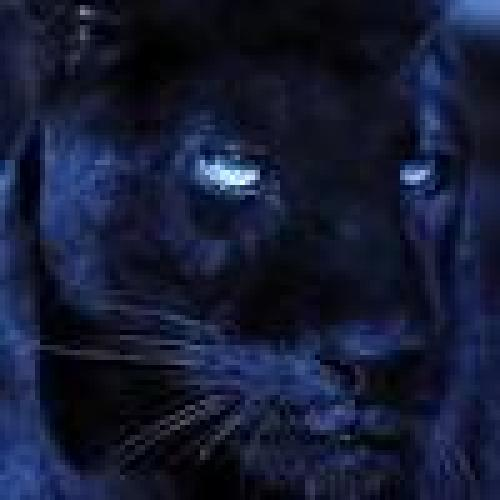panther-endangered: (17, 2, 473, 498)
